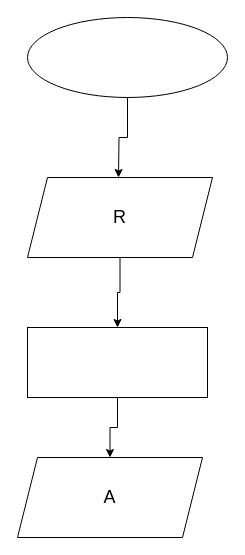
Image size: 245x555. Some labels were removed from this diagram. Each missing label, with the centre of its shape:
"A = 3.14 * (r * r)" belongs at pixel 117 362.
"Start" belongs at pixel 127 57.
